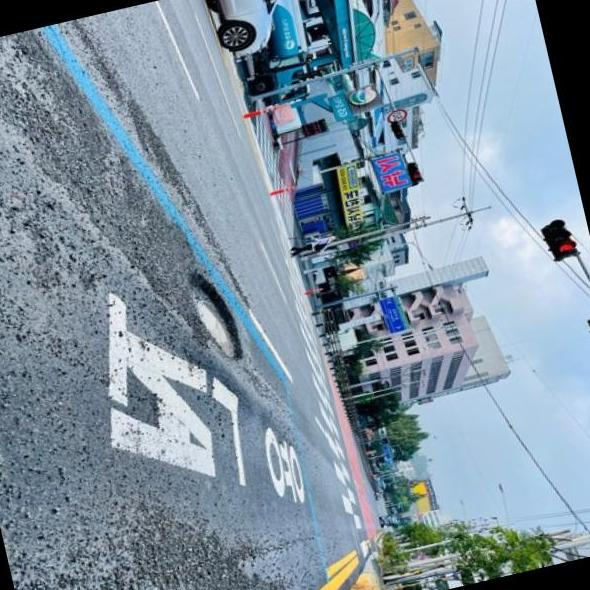pothole: (166, 250, 280, 386)
